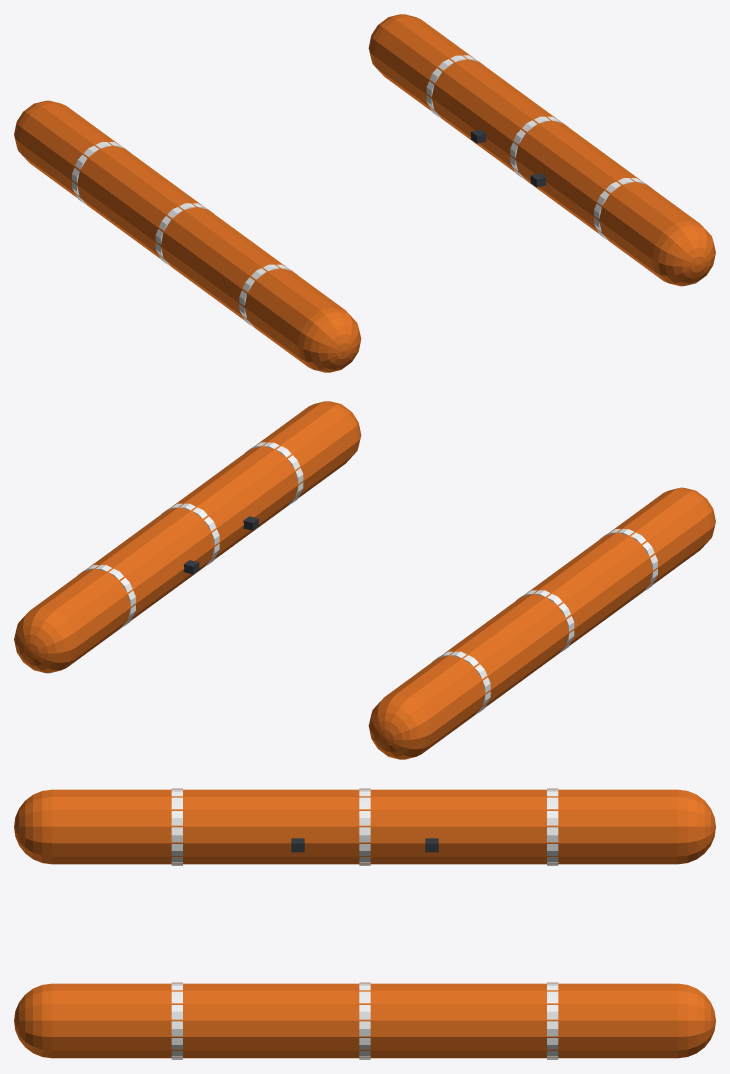
The model's file is ridgeback_4x4.glb.
3 views of the same model, one above another, from view 1: azimuth 30°, elevation 25°; view 2: azimuth 150°, elevation 25°; view 3: azimuth 270°, elevation 25° (orthographic). The views are drawn at different scales.
Parts seen in each view (by area): view 1: model; view 2: model; view 3: model.
Boxes of the visible parts, x1=… form: model: x1=14, y1=14, x2=715, y2=372; model: x1=14, y1=401, x2=715, y2=759; model: x1=14, y1=788, x2=715, y2=1059.
Size of the model in its own units: 2.8 by 0.4078 by 3.67.
Materials: 1 (1 with a texture image).
